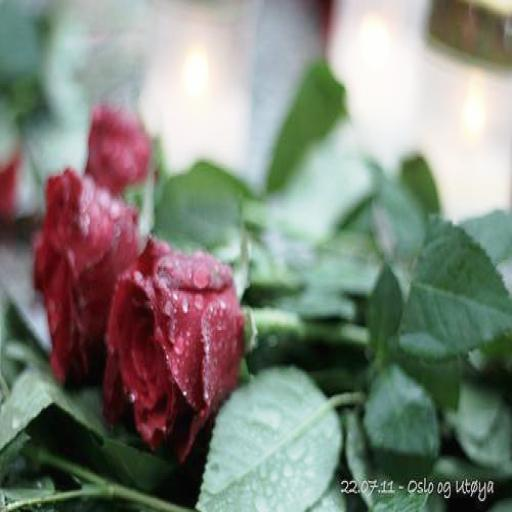rose: (102, 238, 245, 458), (32, 166, 139, 386)
